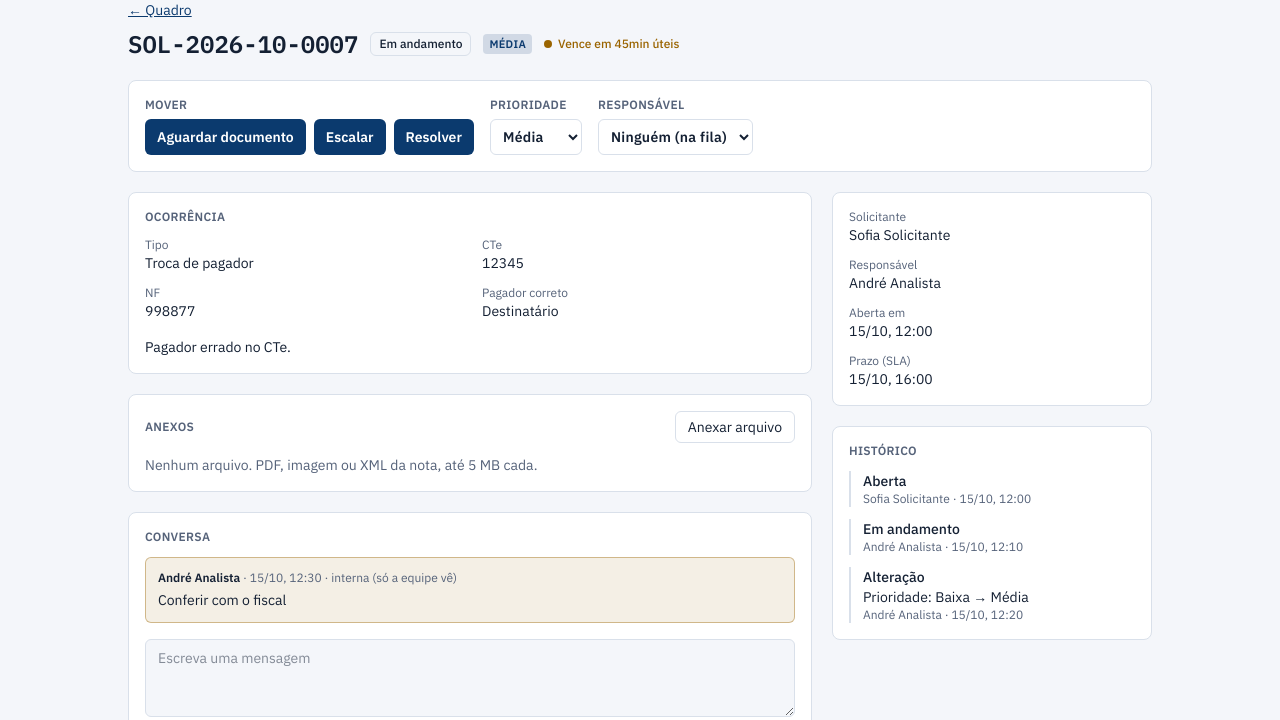
Test: DetalheDaSolicitacao › a janela de observação fecha com Voltar sem mover
Click the button "Escalar": click(350, 137) [314,119,386,155]
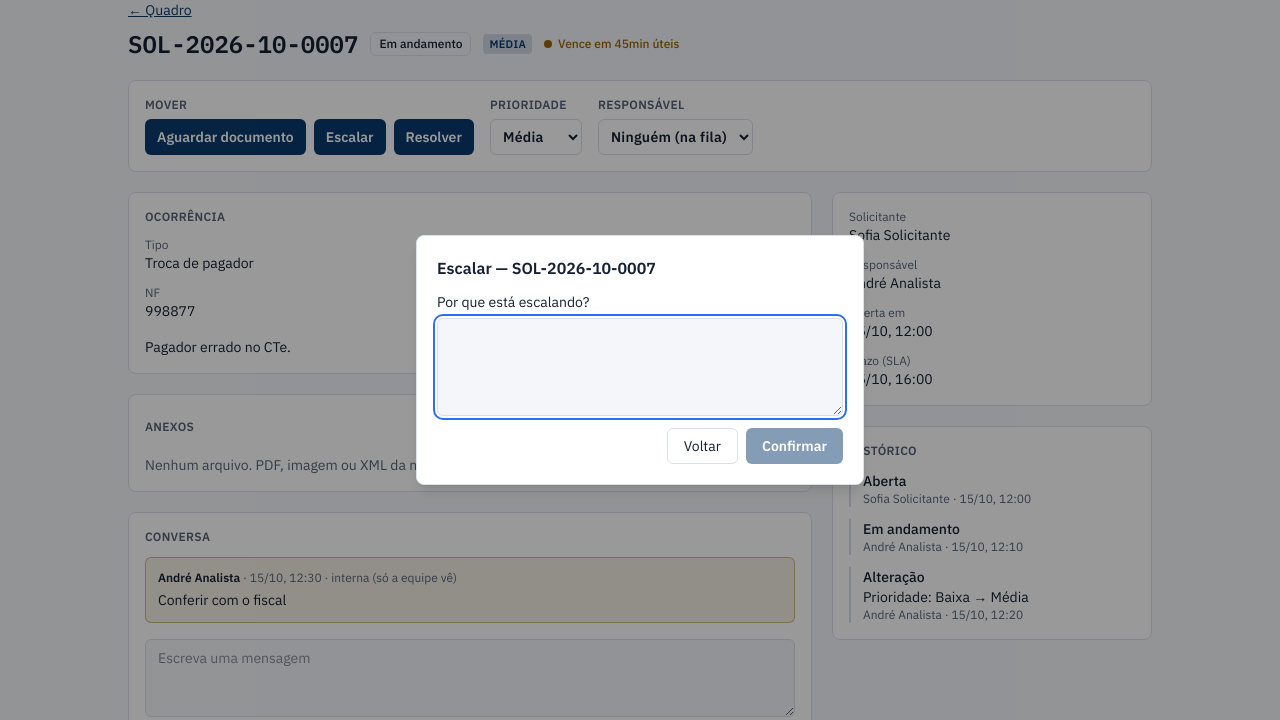
Click the button "Voltar": click(702, 446) [667,428,738,464]
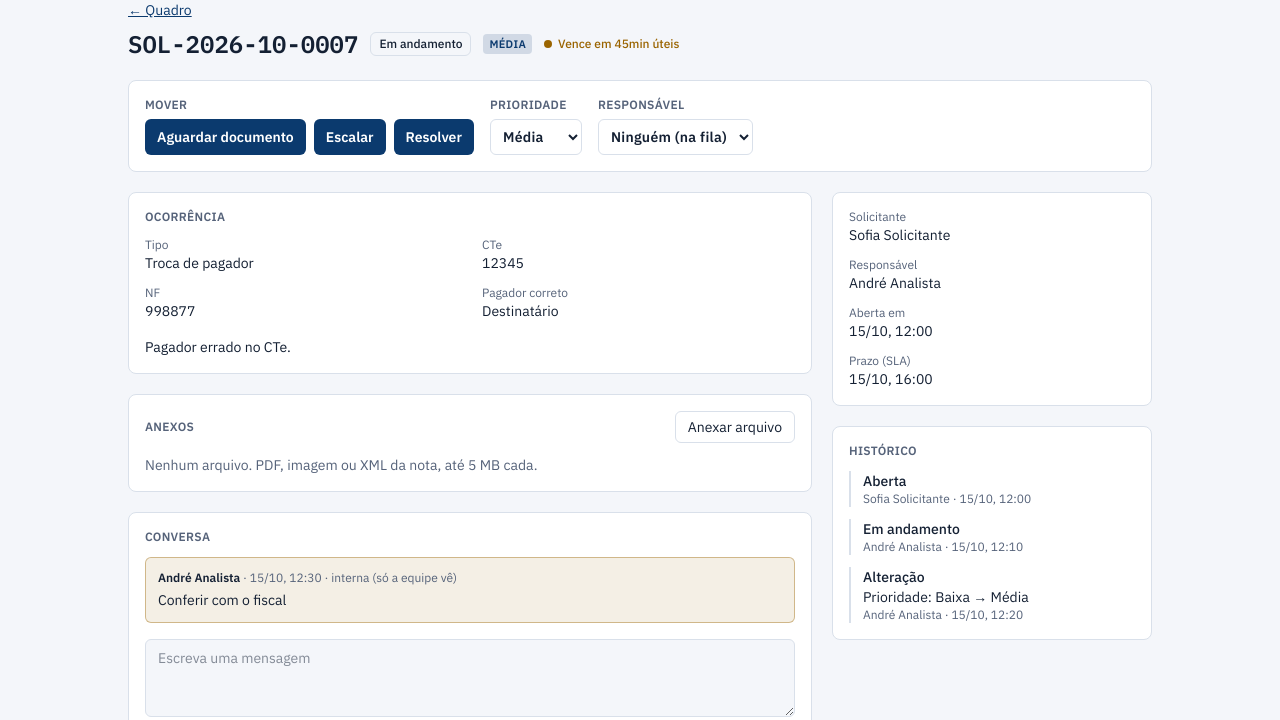
Expected: the dialog is gone
